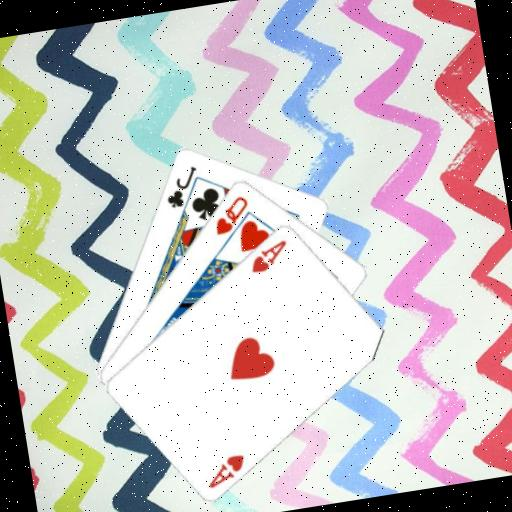AH: (243, 235, 292, 275), (201, 450, 250, 490)
JC: (158, 161, 203, 210)
QH: (207, 191, 253, 237)
